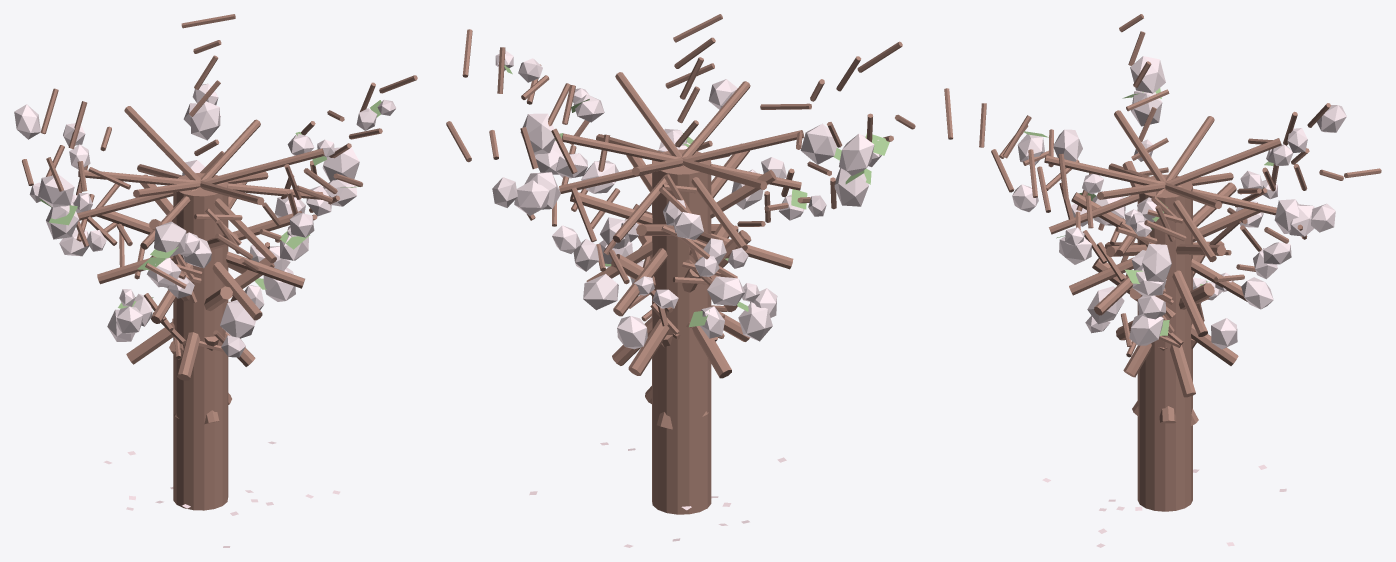
Rendered from cherry.glb.
3 views of the same model, side by side, from view 1: azimuth 30°, elevation 25°; view 2: azimuth 150°, elevation 25°; view 3: azimuth 270°, elevation 25° (orthographic). The views are drawn at different scales.
Visible parts, largest first — view 1: CherryMature_trunk, CherryMature_branch_L4_2, CherryMature_branch_L4_4, CherryMature_branch_L3_5, CherryMature_branch_L4_5, CherryMature_branch_L4_3, CherryMature_branch_L3_4, CherryMature_branch_L2_2, CherryMature_branch_L3_2, CherryMature_blossom_14, CherryMature_branch_L4_1, CherryMature_blossom_44 (+14 smaller); view 2: CherryMature_trunk, CherryMature_branch_L4_2, CherryMature_branch_L4_6, CherryMature_branch_L4_1, CherryMature_branch_L4_3, CherryMature_branch_L3_3, CherryMature_branch_L3_1, CherryMature_branch_L3_6, CherryMature_branch_L4_5, CherryMature_blossom_43, CherryMature_branch_L2_1, CherryMature_blossom_44 (+18 smaller); view 3: CherryMature_trunk, CherryMature_branch_L4_4, CherryMature_branch_L4_1, CherryMature_branch_L3_4, CherryMature_branch_L4_6, CherryMature_branch_L3_1, CherryMature_branch_L3_5, CherryMature_blossom_18, CherryMature_branch_L4_2, CherryMature_branch_L3_6, CherryMature_branch_L4_5, CherryMature_blossom_43 (+19 smaller).
Boxes of the visible parts, x1=… form: CherryMature_trunk: x1=173, y1=173, x2=228, y2=510; CherryMature_branch_L4_2: x1=77, y1=148, x2=324, y2=220; CherryMature_branch_L4_4: x1=124, y1=106, x2=276, y2=263; CherryMature_branch_L3_5: x1=97, y1=206, x2=304, y2=288; CherryMature_branch_L4_5: x1=78, y1=170, x2=322, y2=199; CherryMature_branch_L4_3: x1=140, y1=119, x2=260, y2=249; CherryMature_branch_L3_4: x1=140, y1=174, x2=262, y2=320; CherryMature_branch_L2_2: x1=126, y1=258, x2=274, y2=364; CherryMature_branch_L3_2: x1=97, y1=211, x2=301, y2=284; CherryMature_blossom_14: x1=220, y1=300, x2=256, y2=338; CherryMature_branch_L4_1: x1=137, y1=164, x2=264, y2=204; CherryMature_blossom_44: x1=154, y1=221, x2=186, y2=256; CherryMature_trunk: x1=652, y1=149, x2=711, y2=514; CherryMature_branch_L4_2: x1=615, y1=72, x2=747, y2=250; CherryMature_branch_L4_6: x1=559, y1=130, x2=804, y2=193; CherryMature_branch_L4_1: x1=612, y1=81, x2=750, y2=242; CherryMature_branch_L4_3: x1=562, y1=133, x2=801, y2=190; CherryMature_branch_L3_3: x1=570, y1=192, x2=793, y2=269; CherryMature_branch_L3_1: x1=613, y1=143, x2=749, y2=316; CherryMature_branch_L3_6: x1=586, y1=170, x2=776, y2=281; CherryMature_branch_L4_5: x1=596, y1=134, x2=767, y2=189; CherryMature_blossom_43: x1=839, y1=133, x2=874, y2=175; CherryMature_branch_L2_1: x1=628, y1=223, x2=733, y2=375; CherryMature_blossom_44: x1=800, y1=123, x2=839, y2=164; CherryMature_trunk: x1=1137, y1=174, x2=1192, y2=511; CherryMature_branch_L4_4: x1=1049, y1=138, x2=1281, y2=234; CherryMature_branch_L4_1: x1=1044, y1=155, x2=1276, y2=215; CherryMature_branch_L3_4: x1=1069, y1=202, x2=1260, y2=295; CherryMature_branch_L4_6: x1=1114, y1=110, x2=1216, y2=262; CherryMature_branch_L3_1: x1=1071, y1=192, x2=1247, y2=301; CherryMature_branch_L3_5: x1=1094, y1=182, x2=1236, y2=315; CherryMature_blossom_18: x1=1142, y1=243, x2=1171, y2=282; CherryMature_branch_L4_2: x1=1097, y1=172, x2=1233, y2=199; CherryMature_branch_L3_6: x1=1122, y1=161, x2=1207, y2=336; CherryMature_branch_L4_5: x1=1116, y1=116, x2=1214, y2=256; CherryMature_blossom_43: x1=1130, y1=56, x2=1165, y2=93.
Size of the model in its own units: 3.34 by 3.14 by 3.16.
